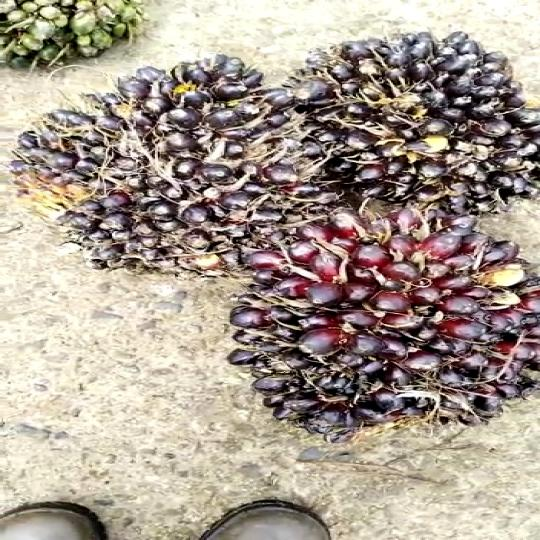mentah: (9, 47, 370, 281), (224, 206, 534, 457), (270, 15, 540, 203)
